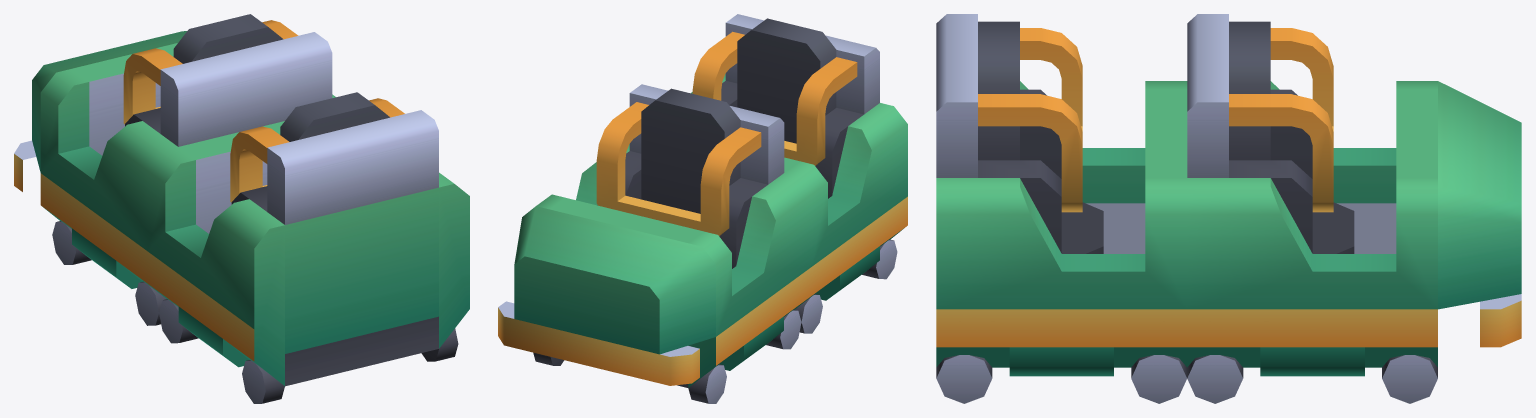
The model's file is kenney-coaster-coaster-train-safety.glb.
3 views of the same model, side by side, from view 1: azimuth 30°, elevation 25°; view 2: azimuth 150°, elevation 25°; view 3: azimuth 270°, elevation 25° (orthographic). The views are drawn at different scales.
Visible parts, largest first — view 1: coaster-train-safety; view 2: coaster-train-safety; view 3: coaster-train-safety.
Part boxes in pixels (<box>): coaster-train-safety: <box>14,14,469,403</box>; coaster-train-safety: <box>498,14,907,403</box>; coaster-train-safety: <box>936,14,1521,403</box>.
Bounding box in the file's own units: 0.7001 × 0.817 × 1.4.
1 material, 1 textured.
